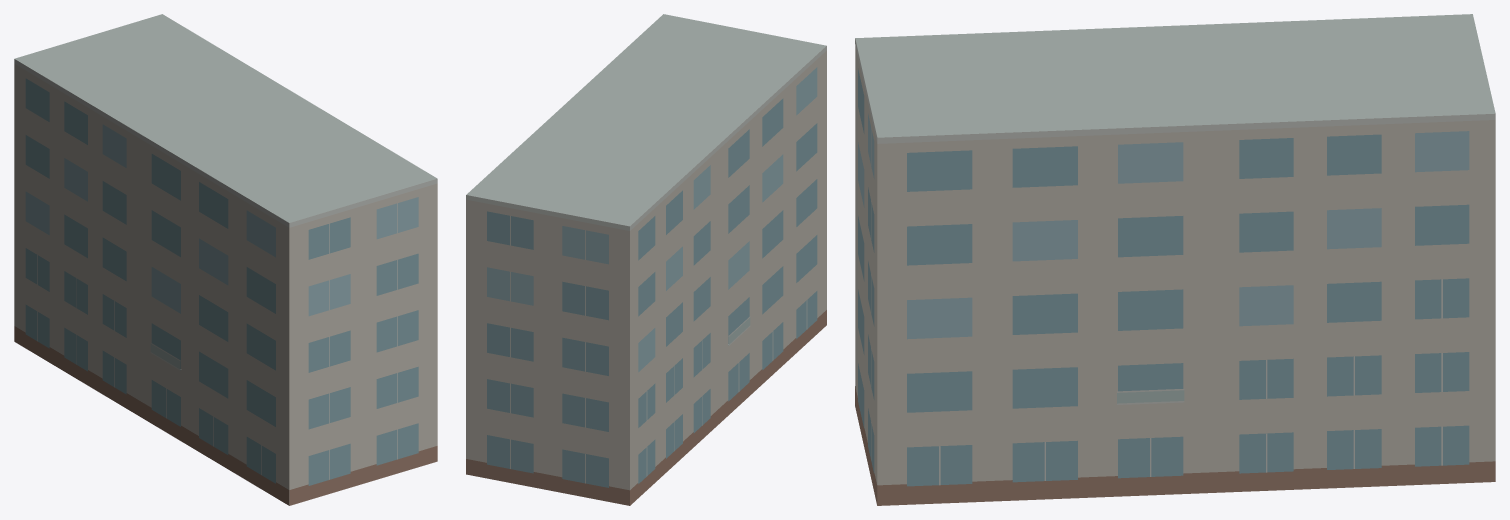
The model's file is survey-upis-32653401.glb.
3 renders of one model, left to right at view 1: azimuth 30°, elevation 25°; view 2: azimuth 150°, elevation 25°; view 3: azimuth 270°, elevation 25°, orthographic. The views are drawn at different scales.
Visible parts, largest first — view 1: survey-upis-32653401.tmp; view 2: survey-upis-32653401.tmp; view 3: survey-upis-32653401.tmp.
Boxes of the visible parts, x1,y1,x2,y2 form: survey-upis-32653401.tmp: (14, 14, 437, 505); survey-upis-32653401.tmp: (466, 14, 826, 505); survey-upis-32653401.tmp: (855, 14, 1495, 505).
Bounding box in the file's own units: 10.53 × 14.6 × 23.03.
